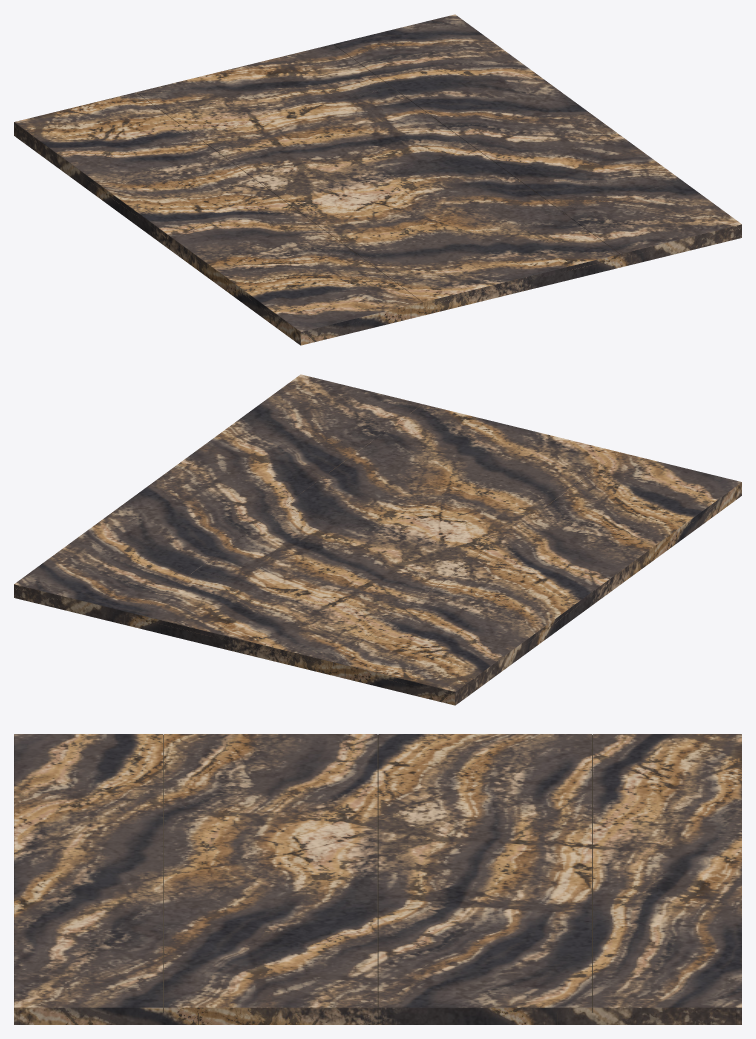
The model's file is floor-amber-large.glb.
3 views of the same model, one above another, from view 1: azimuth 30°, elevation 25°; view 2: azimuth 150°, elevation 25°; view 3: azimuth 270°, elevation 25° (orthographic). The views are drawn at different scales.
Parts seen in each view (by area): view 1: Stone_field_amber, Stone_edge_amber; view 2: Stone_field_amber, Stone_edge_amber; view 3: Stone_field_amber, Stone_edge_amber, Joint_and_bedding_amber.
Boxes of the visible parts, x1,y1,x2,y2 form: Stone_field_amber: (14,14,741,335); Stone_edge_amber: (14,126,741,345); Stone_field_amber: (14,374,741,695); Stone_edge_amber: (14,486,741,705); Stone_field_amber: (14,734,741,1012); Stone_edge_amber: (14,1012,741,1024); Joint_and_bedding_amber: (163,734,592,1024).
Bounding box in the file's own units: 3.2 × 0.096 × 3.6.
3 materials, 2 textured.
